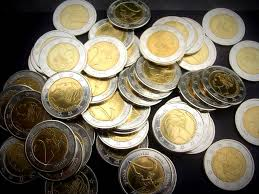eur002: (25, 121, 76, 174), (152, 102, 204, 152), (41, 71, 92, 120), (81, 36, 126, 80), (137, 25, 184, 66), (201, 64, 246, 106), (52, 1, 97, 35)
